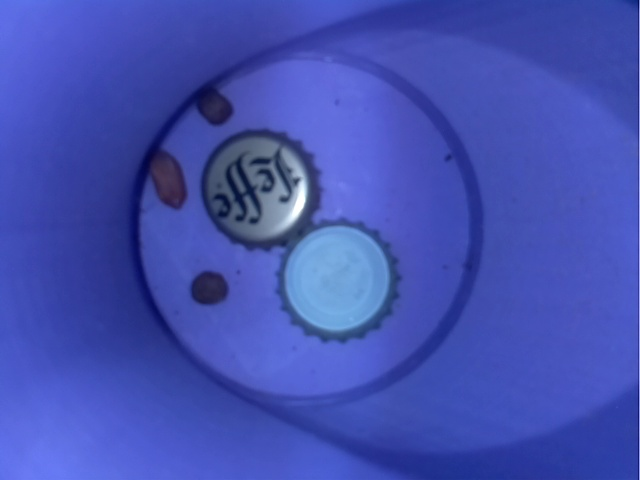capsule: (268, 213, 409, 345), (195, 124, 328, 263)
croquette: (140, 145, 193, 215), (185, 80, 242, 136), (183, 267, 233, 306)
